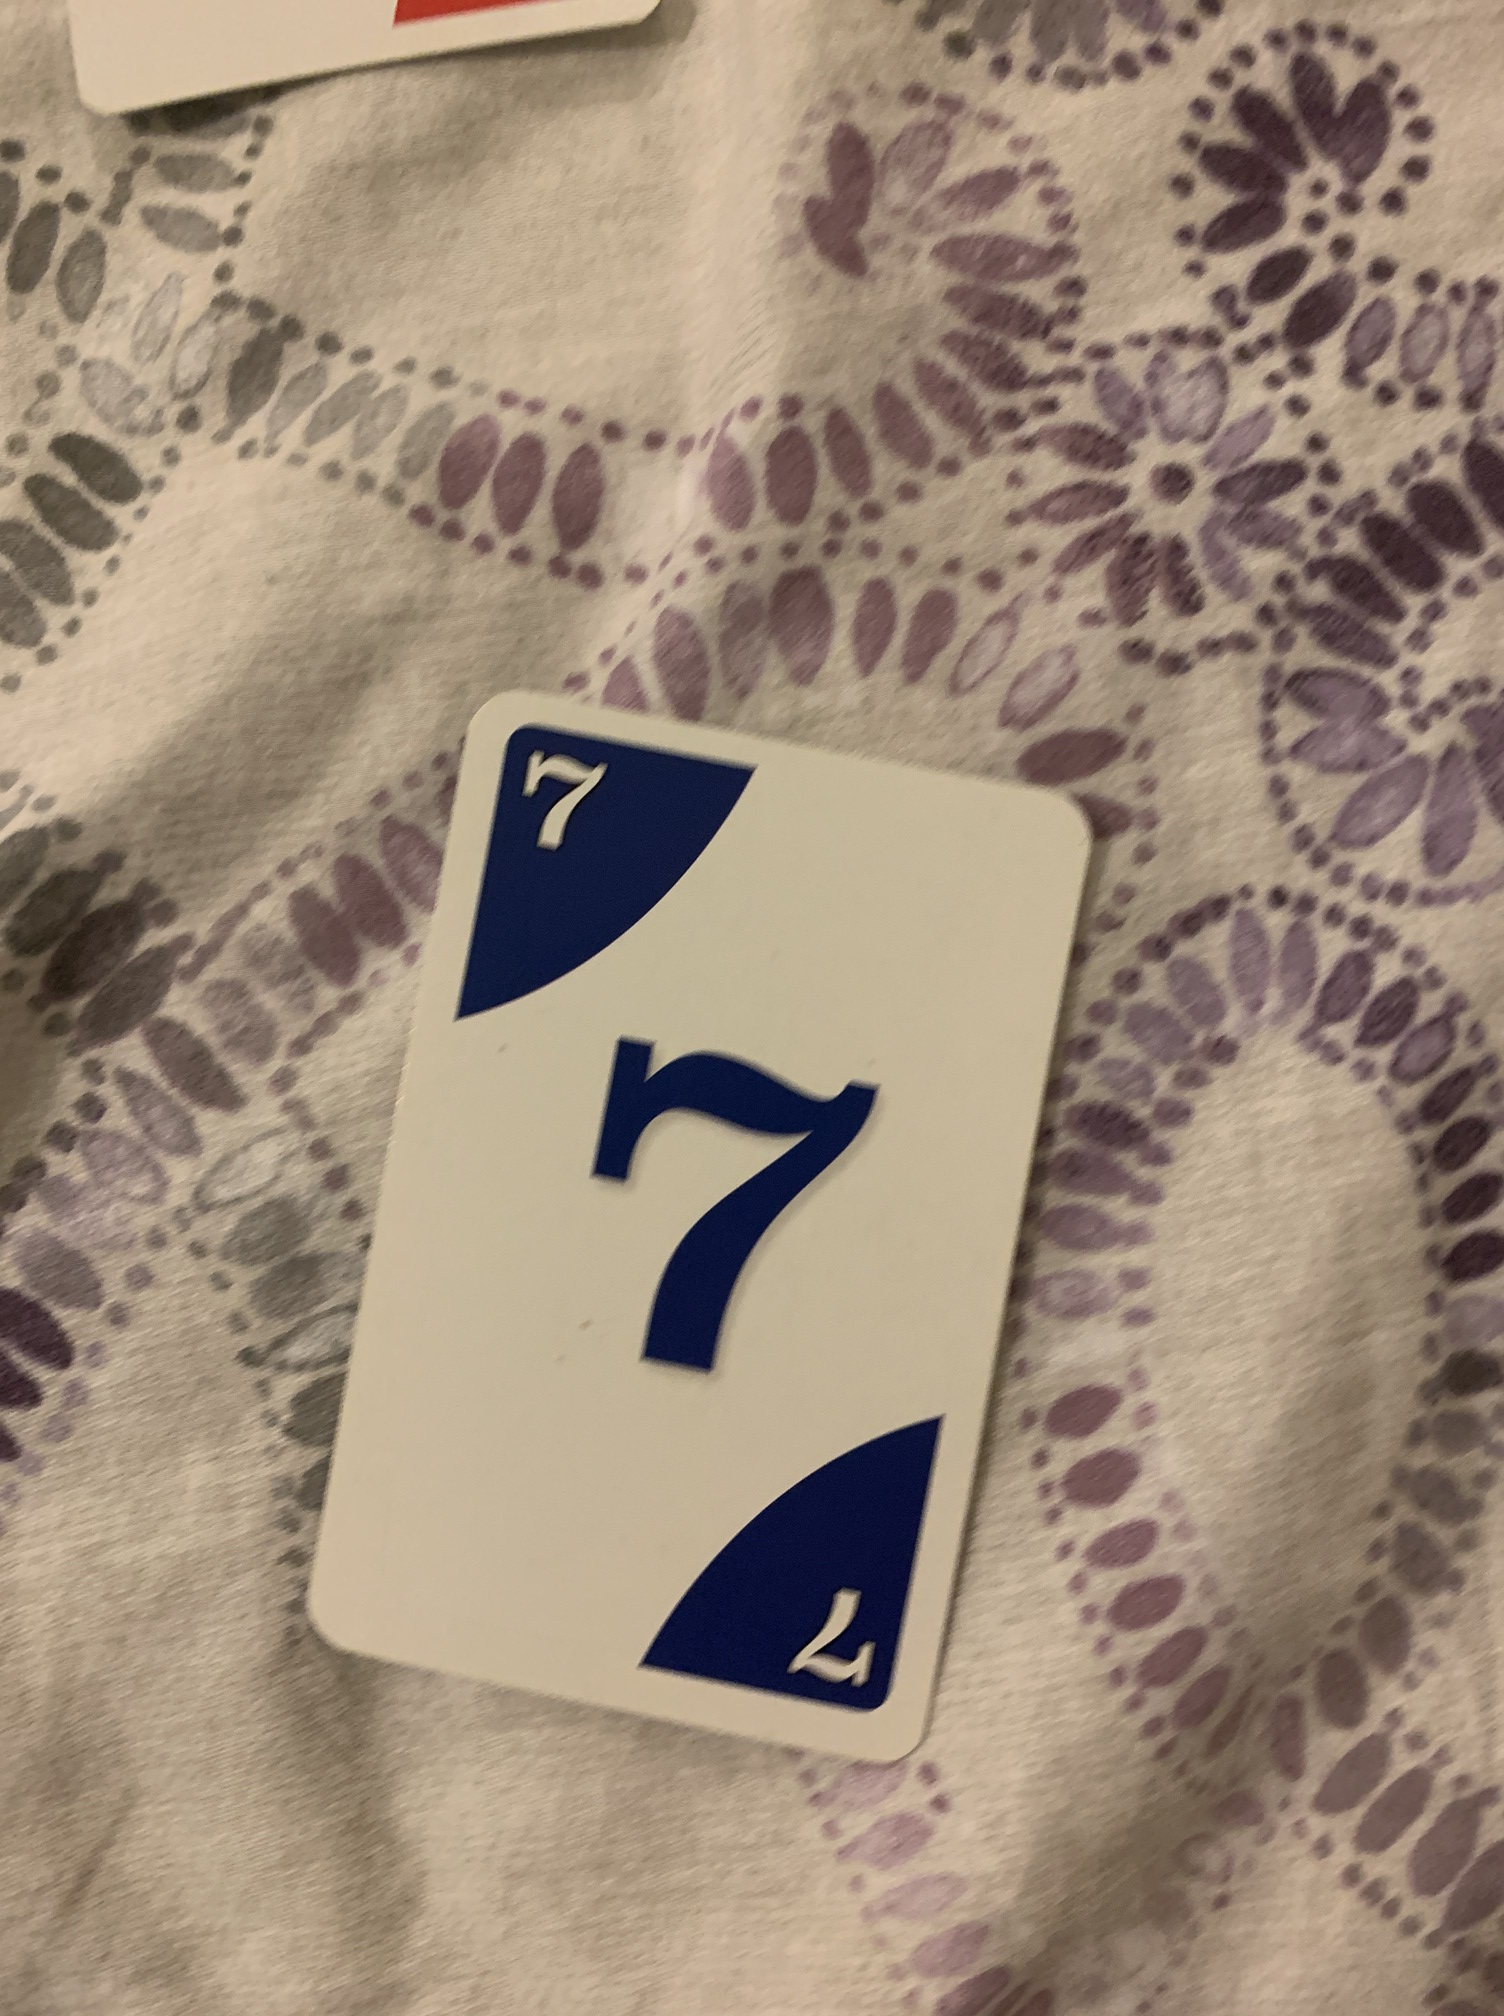seven: (303, 686, 1100, 1768)
